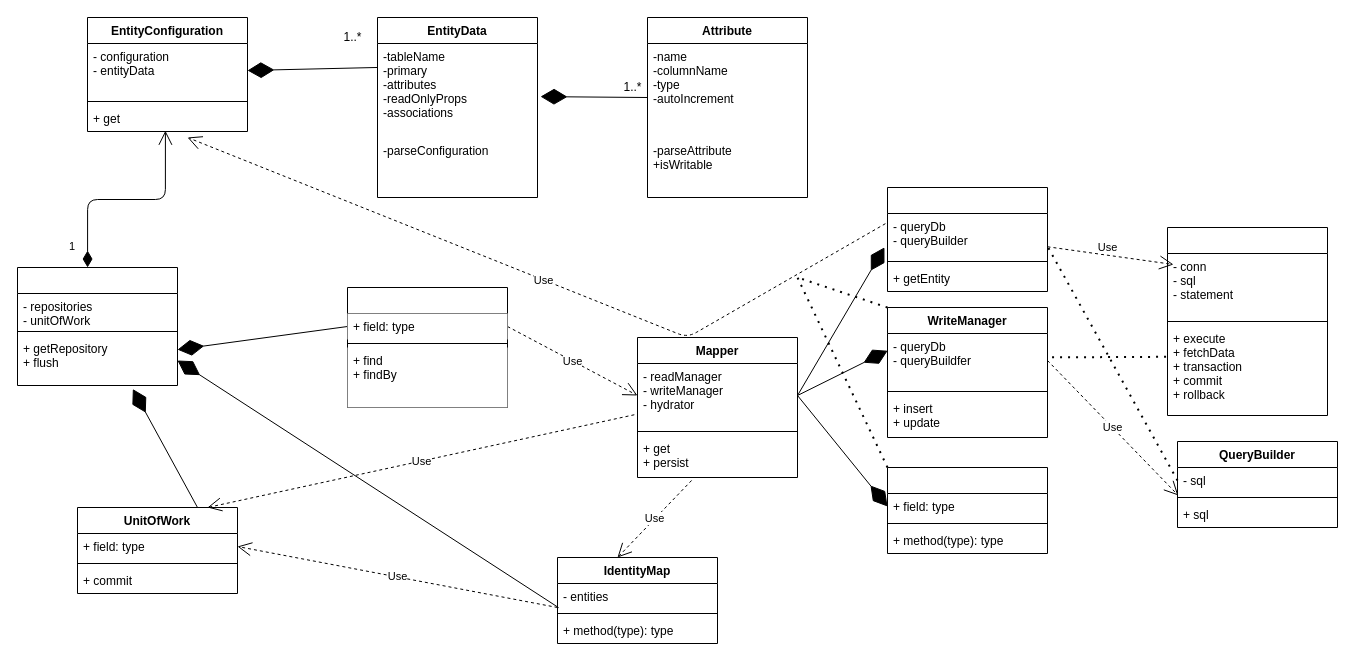
This 1355x664 diagram has some shape labels left out. The box of each missing label's shape, as (x1, y1, x2, y2) in pixels:
EntityManager: (16, 266, 178, 386)
Hydrator: (886, 466, 1048, 554)
QueryDb: (1166, 226, 1328, 416)
ReadManager: (886, 186, 1048, 292)
Repository: (346, 286, 508, 408)
